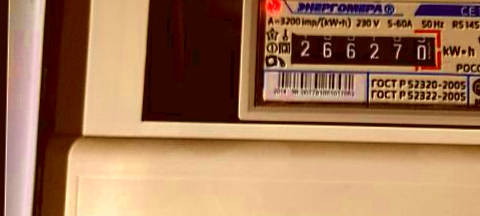0: (415, 42, 426, 62)
2: (298, 38, 313, 59), (368, 41, 380, 62)
6: (321, 40, 333, 61), (345, 41, 357, 60)
7: (391, 42, 403, 61)
screen: (278, 20, 452, 80)
